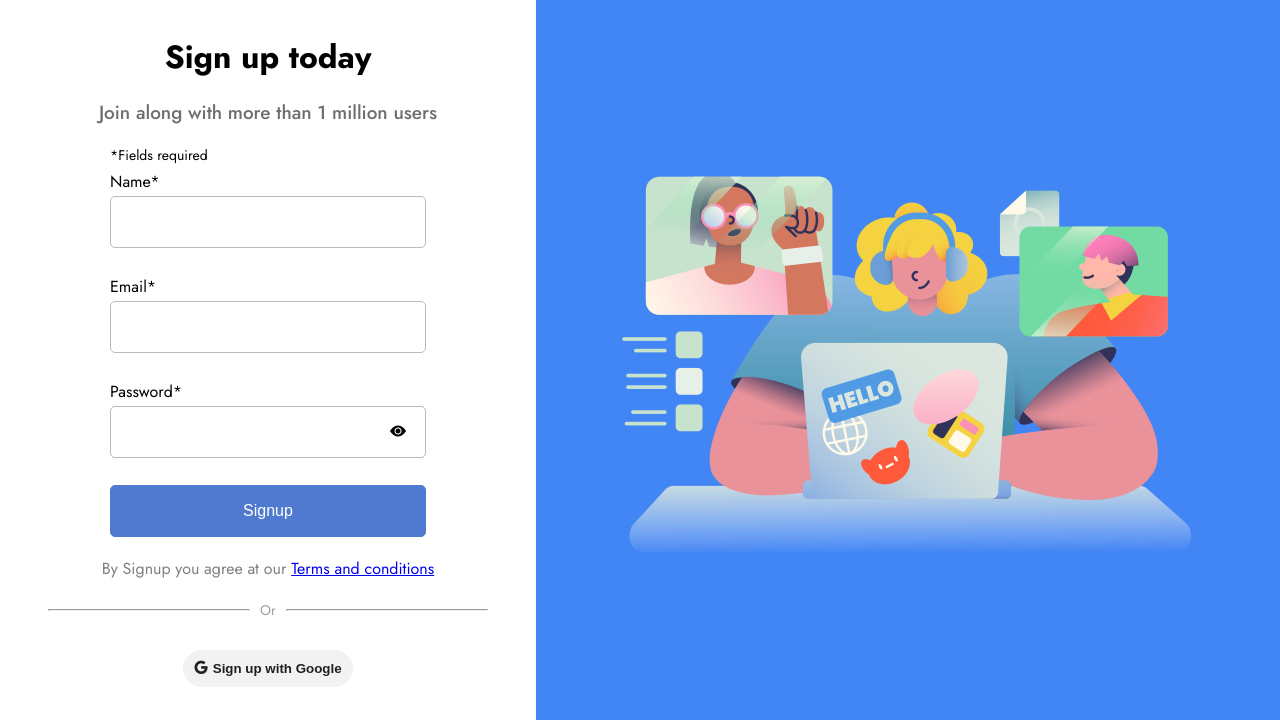
Test case: restituisce errore se email non valida
Type "pippo" into the field with test id "email".
click(268, 326); type("pippo")  # box [110,300,426,352]
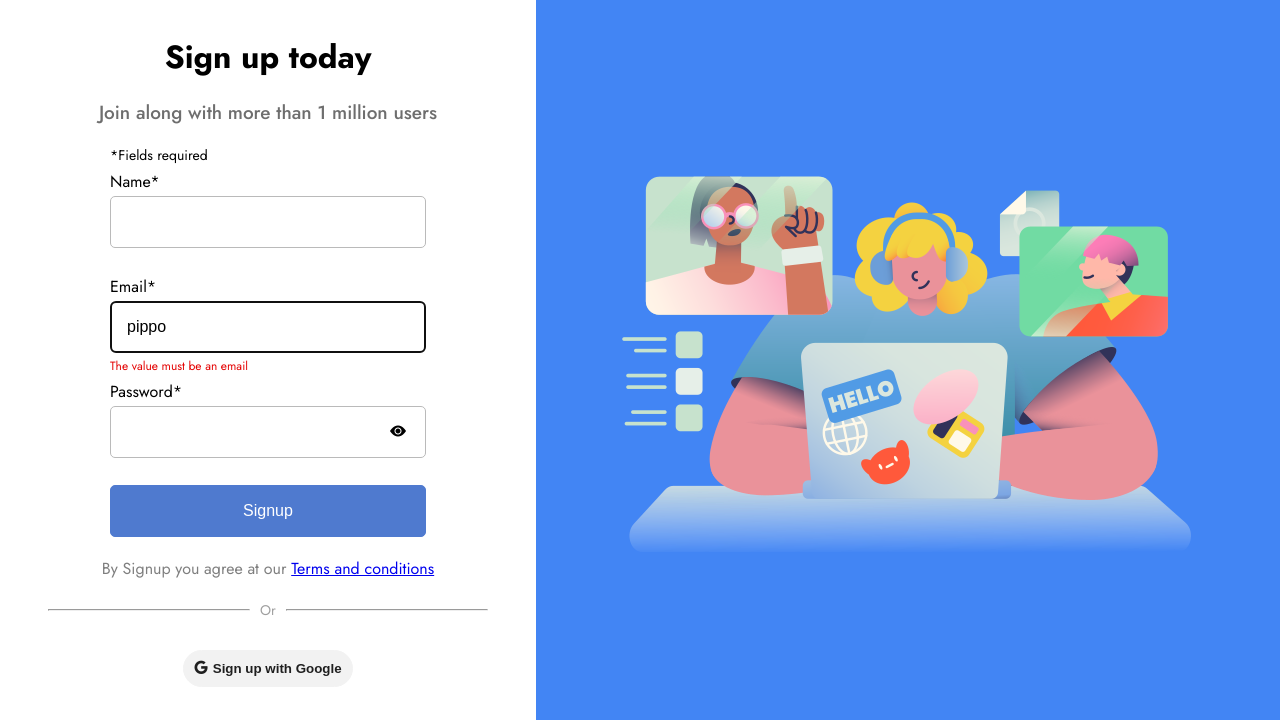
Result: the text with test id "error-email" reads "The value must be an email" at [110,356,248,374]
